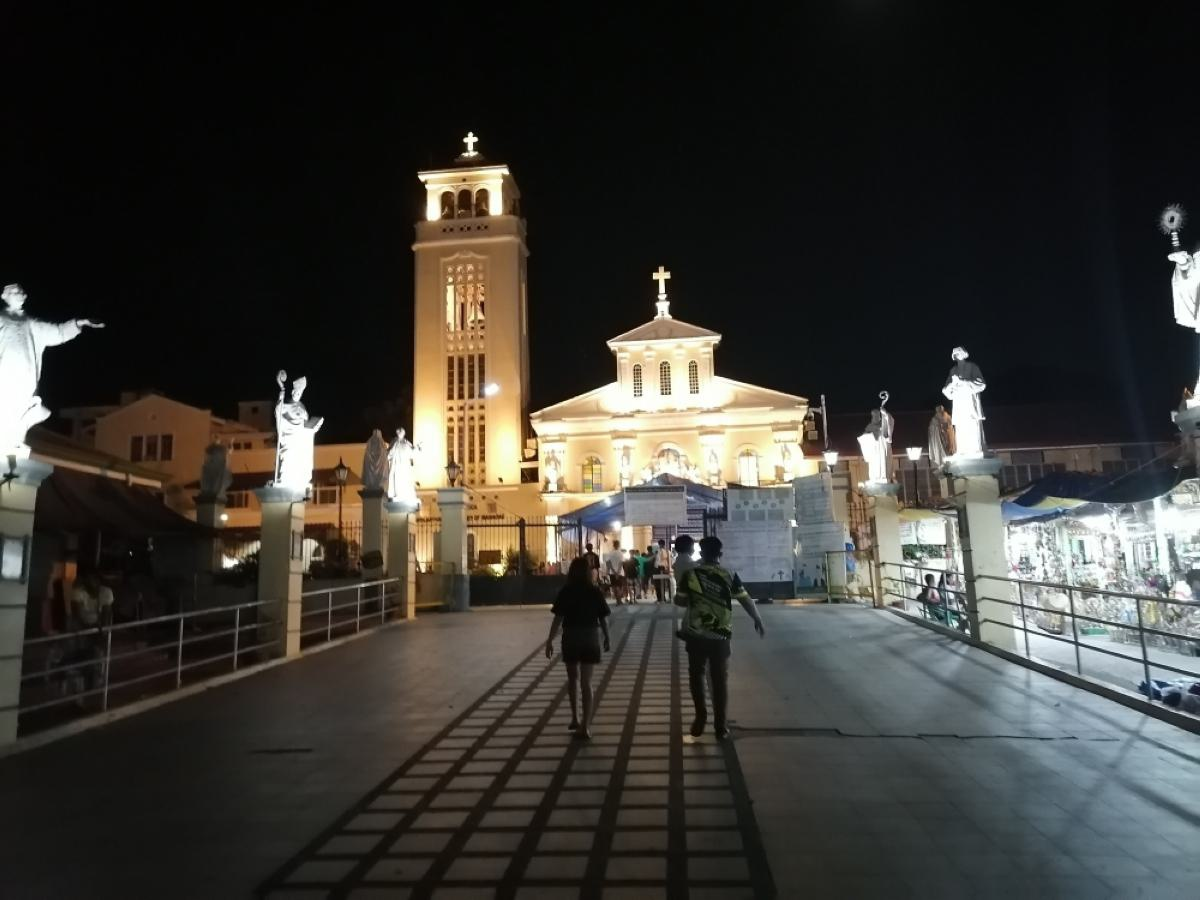manaoag_church_manaoag_pangasinan: (401, 118, 807, 573)
